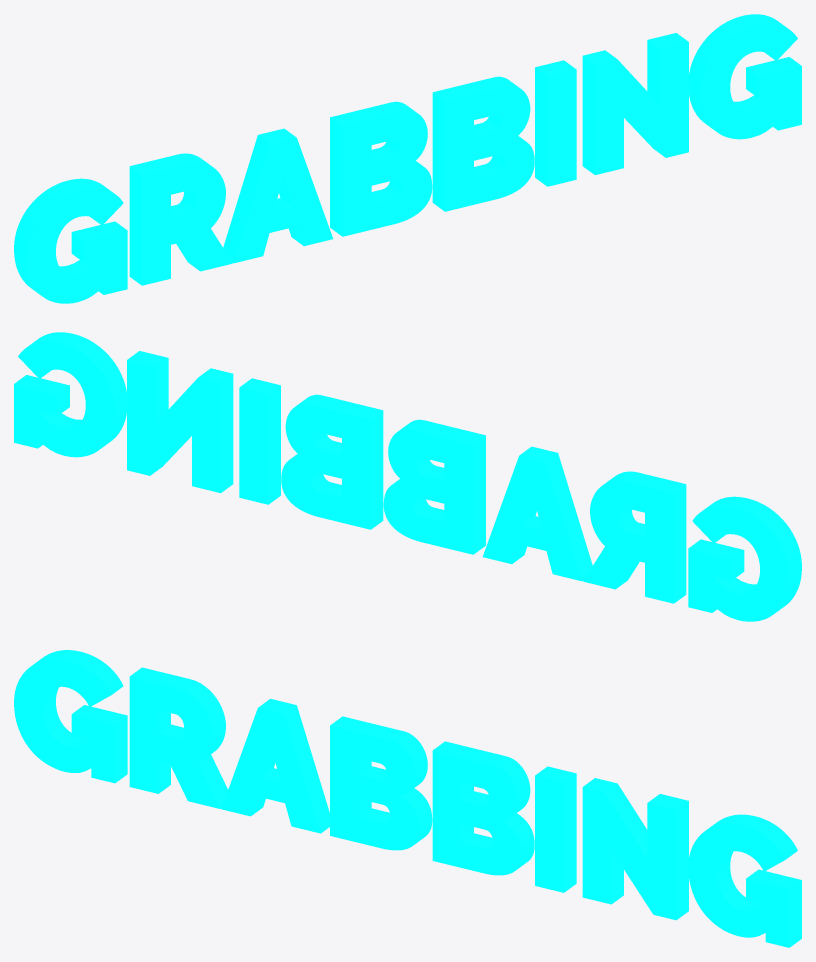
File: grabbing.fbx
3 renders of one model, top to bottom at view 1: azimuth 30°, elevation 25°; view 2: azimuth 150°, elevation 25°; view 3: azimuth 330°, elevation 25°, orthographic.
Visible parts, largest first — view 1: typeMesh2; view 2: typeMesh2; view 3: typeMesh2.
Boxes of the visible parts, <box> form: typeMesh2: <box>14,14,801,303</box>; typeMesh2: <box>14,332,801,621</box>; typeMesh2: <box>14,650,801,947</box>.
Size of the model in its own units: 89.25 by 12.31 by 2.5.
